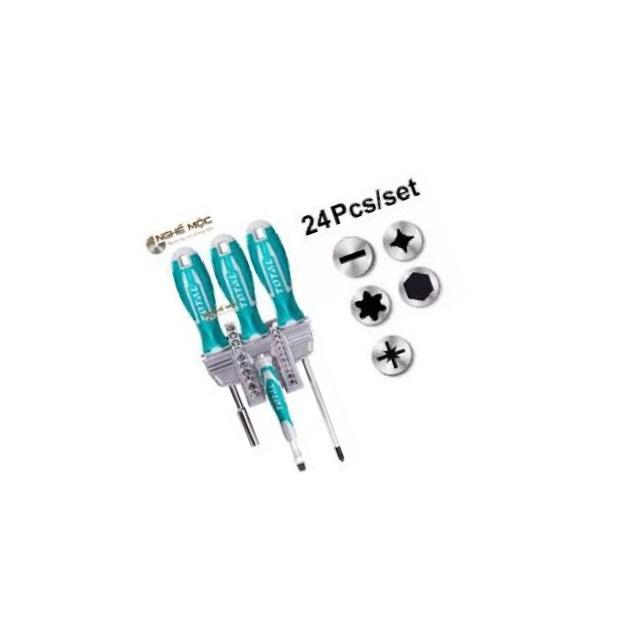screwdriver: (232, 207, 360, 468), (202, 228, 322, 478), (162, 242, 271, 458)
